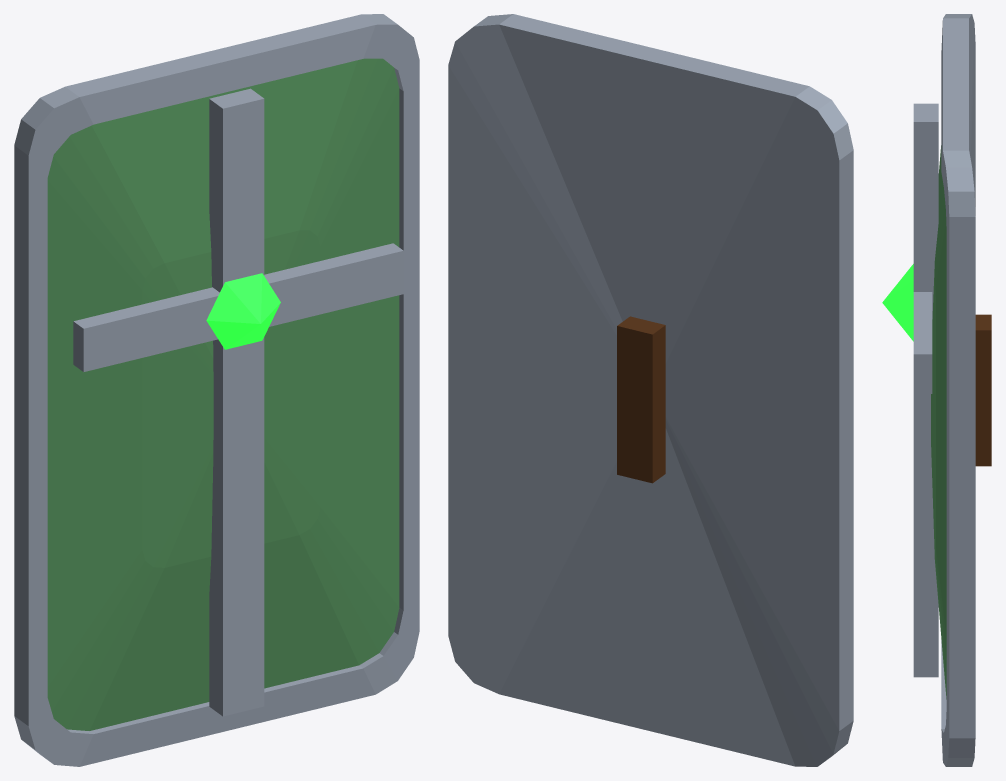
Rendered from shield_tower_uncommon.glb.
3 renders of one model, left to right at view 1: azimuth 30°, elevation 25°; view 2: azimuth 150°, elevation 25°; view 3: azimuth 270°, elevation 25°, orthographic. The views are drawn at different scales.
Visible parts, largest first — view 1: shield_tower_uncommon_export; view 2: shield_tower_uncommon_export; view 3: shield_tower_uncommon_export.
Part boxes in pixels (<box>): shield_tower_uncommon_export: <box>14,14,419,766</box>; shield_tower_uncommon_export: <box>448,14,853,766</box>; shield_tower_uncommon_export: <box>882,14,991,766</box>.
Size of the model in its own units: 66 by 108 by 17.54.
